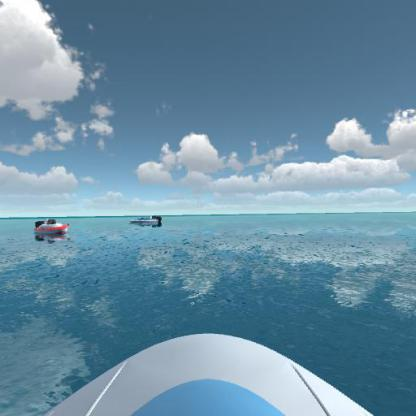usv1: (128, 212, 167, 230)
usv3: (29, 215, 72, 237)
